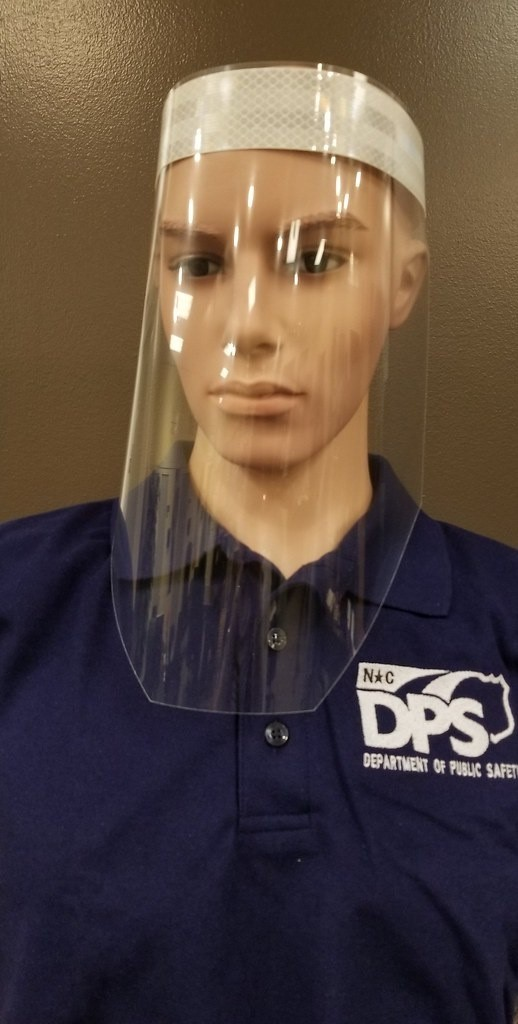face_no_mask: (147, 117, 430, 462)
